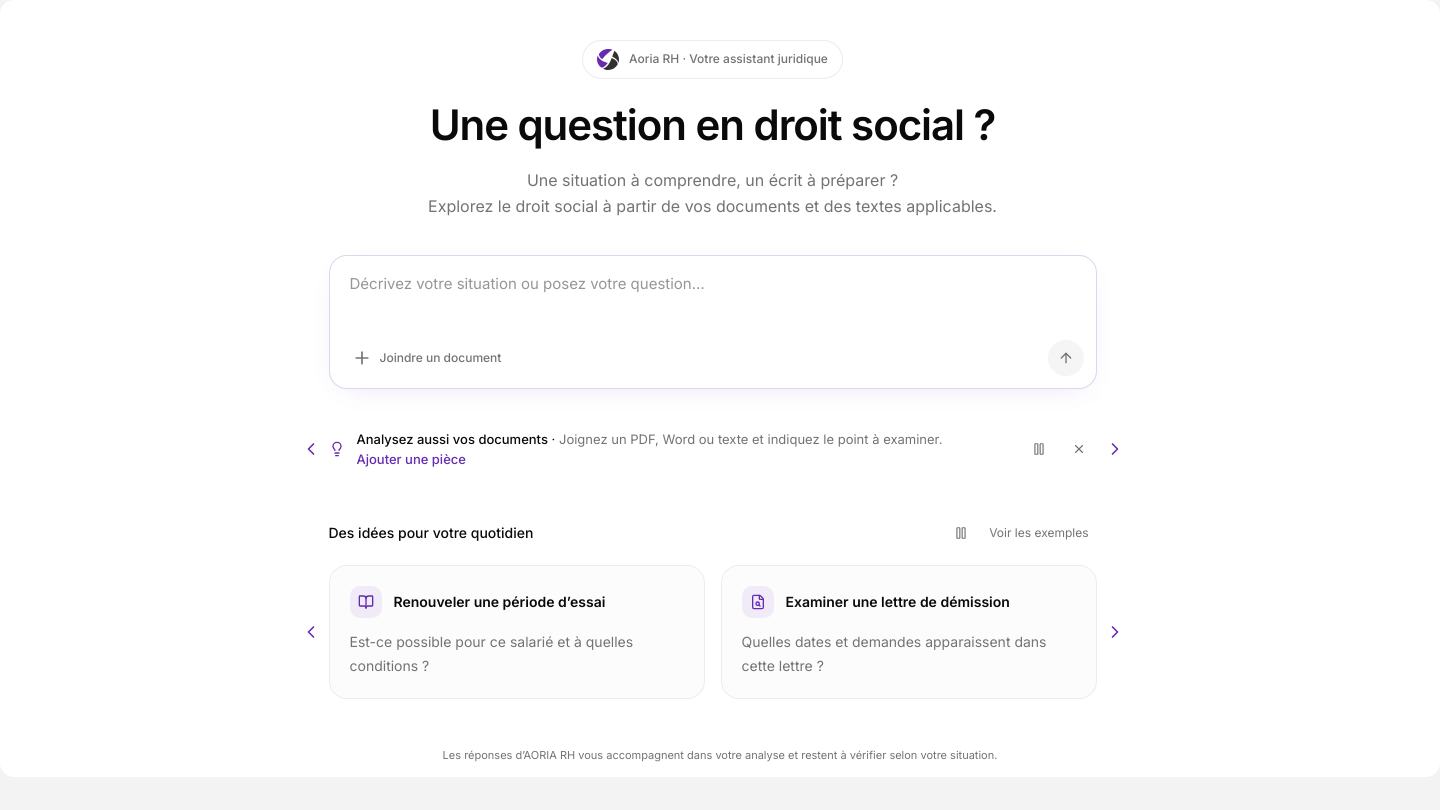
Scenario: shows the input, rotating ideas, then two carousel cards for charge_rh
The width and height of the screenshot is (1440, 810).
Click the button "Renouveler une période d’essai": (516, 632) [328,565,704,699]
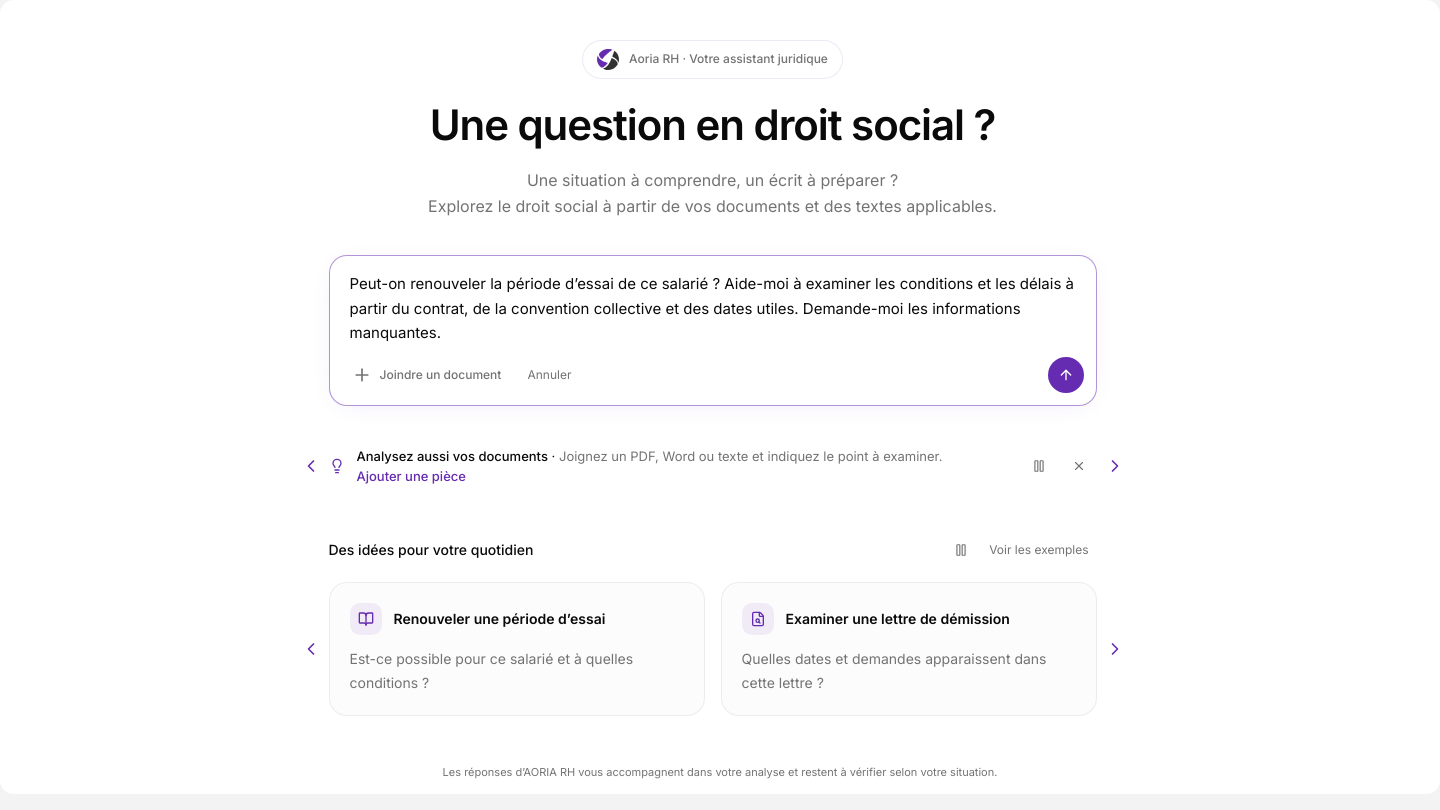
Result: the text box is not empty at [330,256,1096,353]
